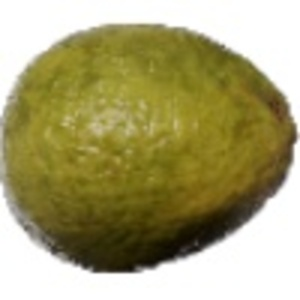goiaba: (5, 15, 292, 274)
